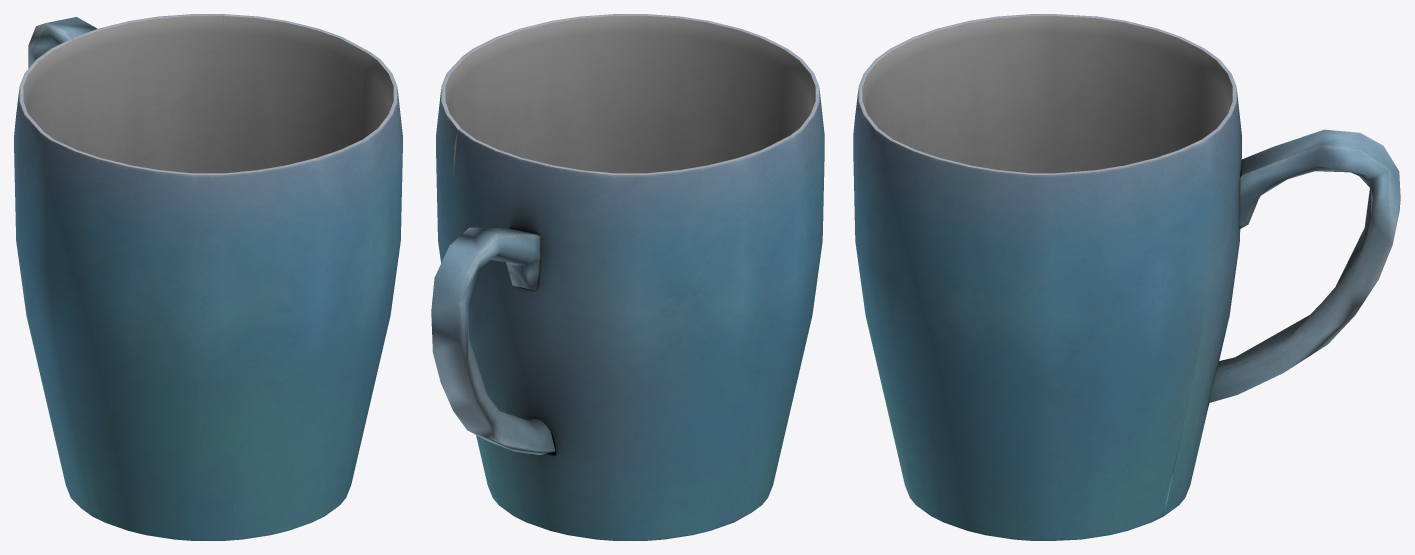
Rendered from cup.fbx.
3 views of the same model, side by side, from view 1: azimuth 30°, elevation 25°; view 2: azimuth 150°, elevation 25°; view 3: azimuth 270°, elevation 25° (orthographic).
Visible parts, largest first — view 1: Cup1_LOD_3; view 2: Cup1_LOD_3; view 3: Cup1_LOD_3.
Boxes of the visible parts, x1,y1,x2,y2 form: Cup1_LOD_3: (14,14,402,540); Cup1_LOD_3: (431,14,824,540); Cup1_LOD_3: (853,14,1400,540).
Bounding box in the file's own units: 17.33 × 18.91 × 24.22.
